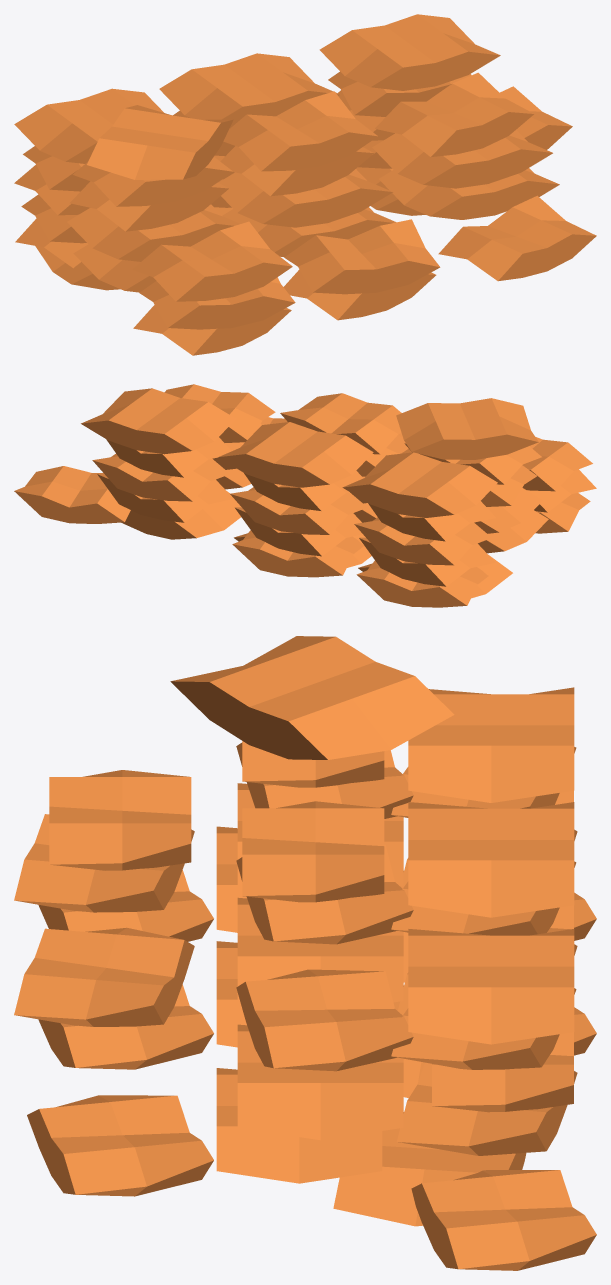
The model's file is Bags.fbx.
3 views of the same model, one above another, from view 1: azimuth 30°, elevation 25°; view 2: azimuth 150°, elevation 25°; view 3: azimuth 270°, elevation 25° (orthographic). The views are drawn at different scales.
Visible parts, largest first — view 1: Bags; view 2: Bags; view 3: Bags.
Boxes of the visible parts, bbox=[...] form: Bags: bbox=[14, 14, 596, 355]; Bags: bbox=[14, 384, 596, 607]; Bags: bbox=[14, 636, 596, 1270].
Bounding box in the file's own units: 387 × 225 × 113.
